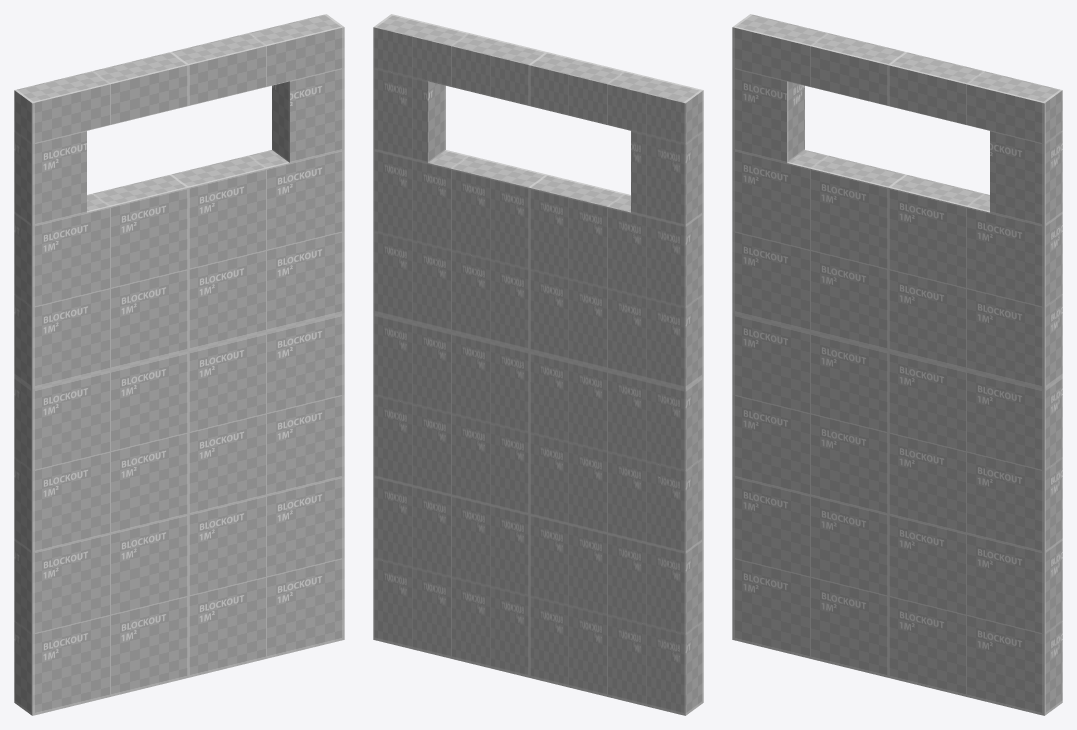
The model's file is BlockoutThinWall04WindowHigh.fbx.
3 views of the same model, side by side, from view 1: azimuth 30°, elevation 25°; view 2: azimuth 150°, elevation 25°; view 3: azimuth 330°, elevation 25° (orthographic).
Parts seen in each view (by area): view 1: BlockoutThinWall04WindowHigh; view 2: BlockoutThinWall04WindowHigh; view 3: BlockoutThinWall04WindowHigh.
Part boxes in pixels (box(x1,y1,x2,y2)): BlockoutThinWall04WindowHigh: box(14, 14, 344, 715); BlockoutThinWall04WindowHigh: box(373, 14, 703, 715); BlockoutThinWall04WindowHigh: box(732, 14, 1062, 715).
Bounding box in the file's own units: 400 × 750 × 40.
